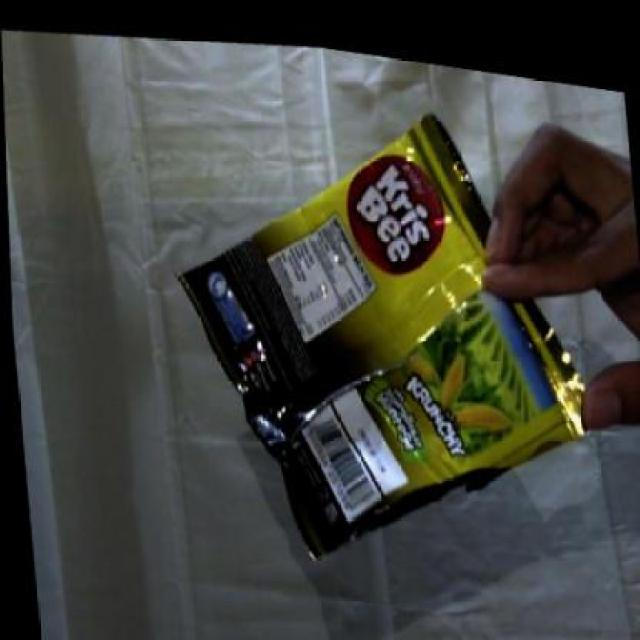Plastic: (168, 107, 582, 561)
